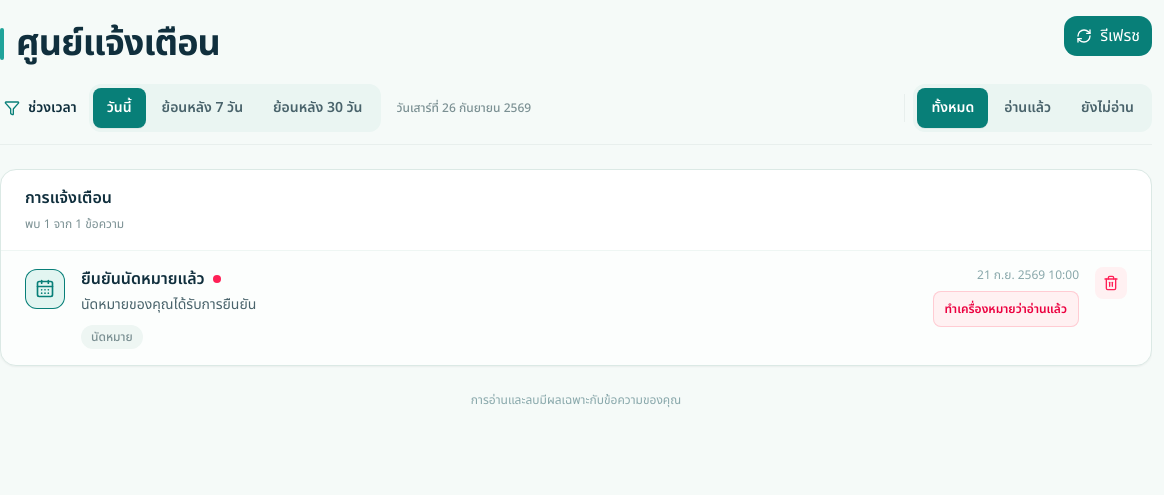
NotificationsPage user-facing errors › does not show a reload action for a failed read-state update
Click the button with aria-label "ทำเครื่องหมายว่าอ่านแล้ว: ยืนยันนัดหมายแล้ว" at (1006, 309), box [932, 291, 1079, 327]
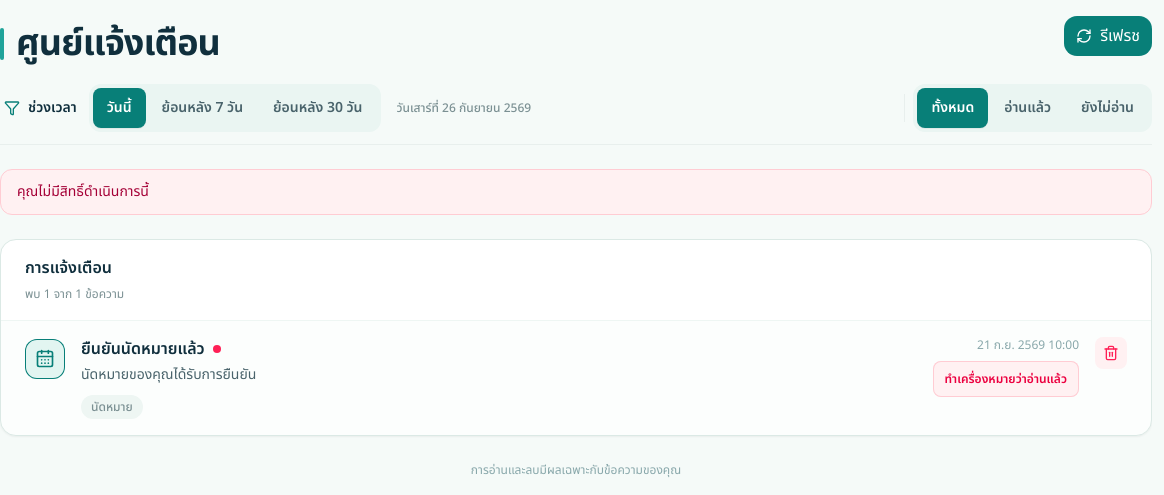
Check: the message reads "คุณไม่มีสิทธิ์ดำเนินการนี้", box [17, 181, 149, 202]
